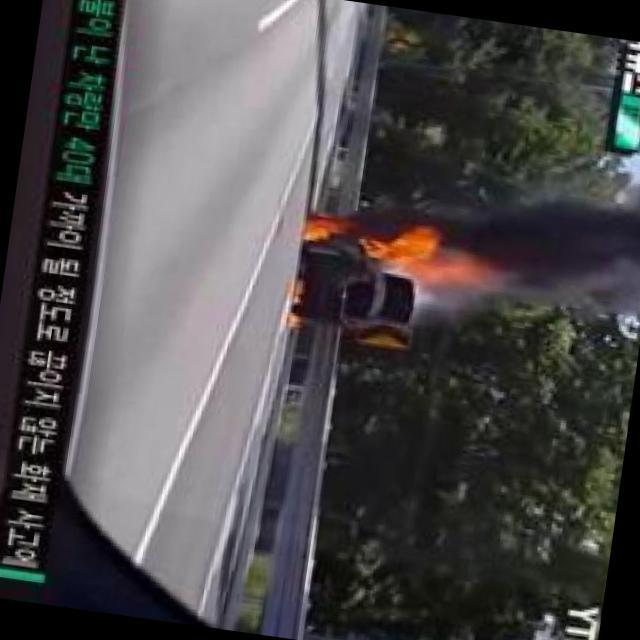Fire: (370, 228, 458, 287), (304, 216, 343, 244)
